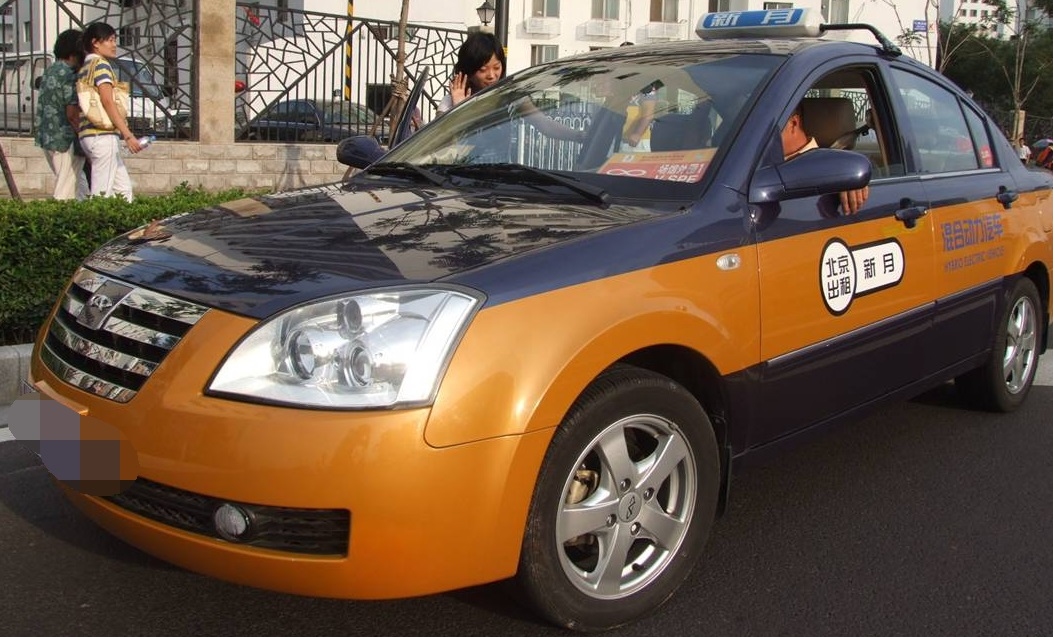taxi: (44, 4, 1053, 626)
